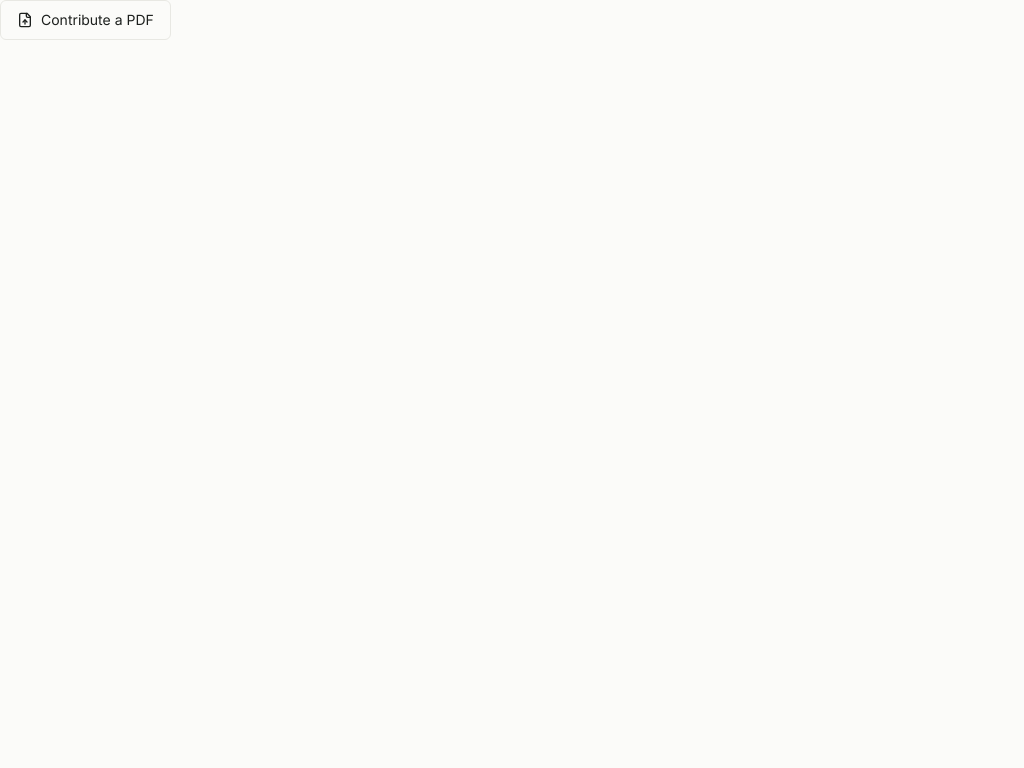
Test case: ContributeBookPdfDialog › requires a rights attestation before enabling submission
The width and height of the screenshot is (1024, 768).
Later steps or results of the test are not shown.
Click the button "Contribute a PDF" at (85, 20), box [0,0,171,40]
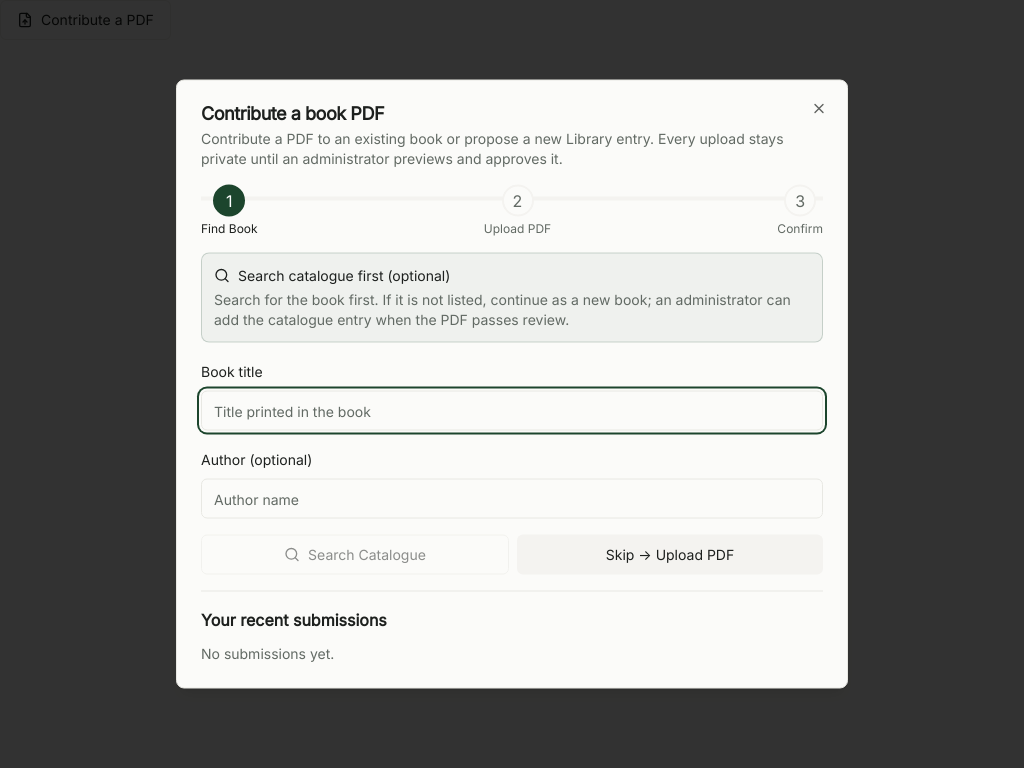
Click the button "Skip → Upload PDF" at (670, 554), box [517,534,823,574]
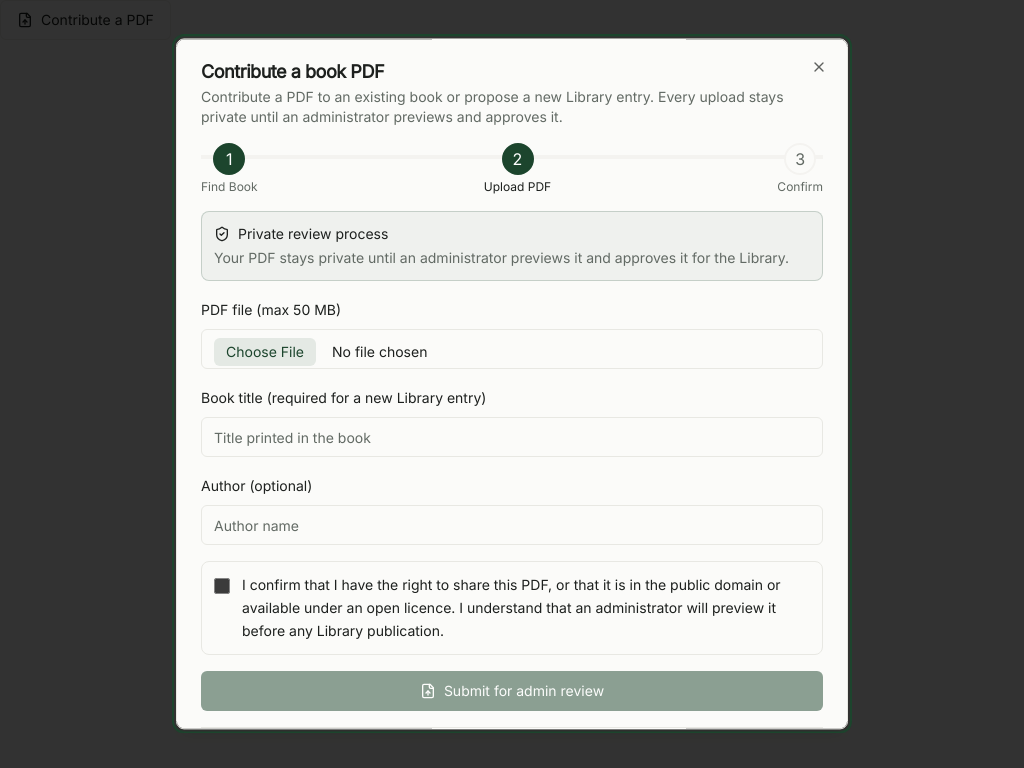
expect the file field labelled "PDF file (max 50 MB)" is shown: met, box [201,329,823,369]
Type "Test Book" into the field labelled "Book title (required for a new Library entry)" at (512, 437), box [201,417,823,457]
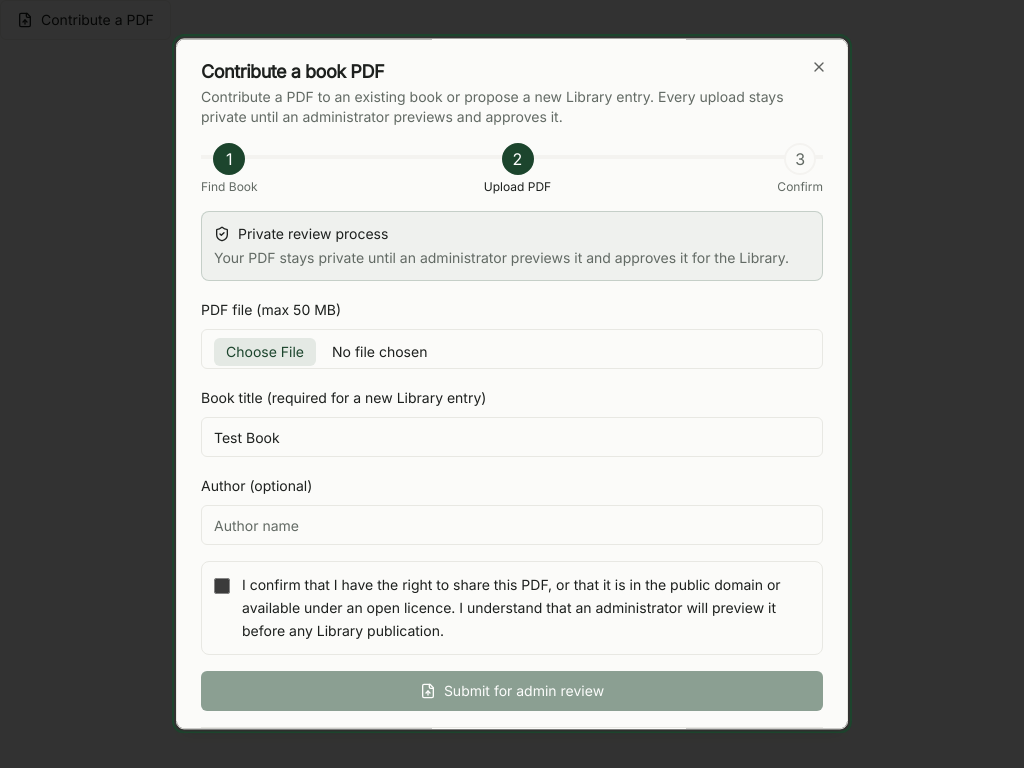
expect the button "Submit for admin review" is disabled: met, box [201,672,823,712]
